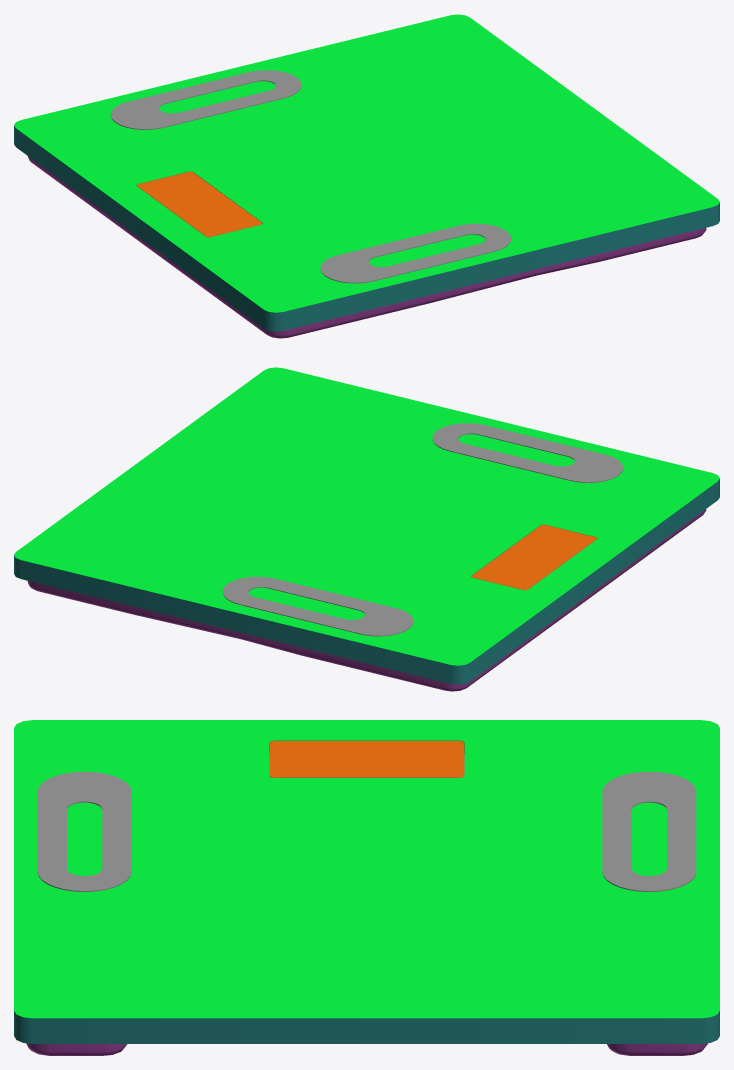
The picture shows the model from 3 angles, top to bottom: view 1: azimuth 30°, elevation 25°; view 2: azimuth 150°, elevation 25°; view 3: azimuth 270°, elevation 25°; orthographic projection. The views are drawn at different scales.
Parts seen in each view (by area): view 1: 842; view 2: 842; view 3: 842.
Boxes of the visible parts, x1=… form: 842: x1=14, y1=14, x2=719, y2=338; 842: x1=14, y1=367, x2=719, y2=691; 842: x1=14, y1=720, x2=719, y2=1055.
Bounding box in the file's own units: 30 × 2.5 × 30.
